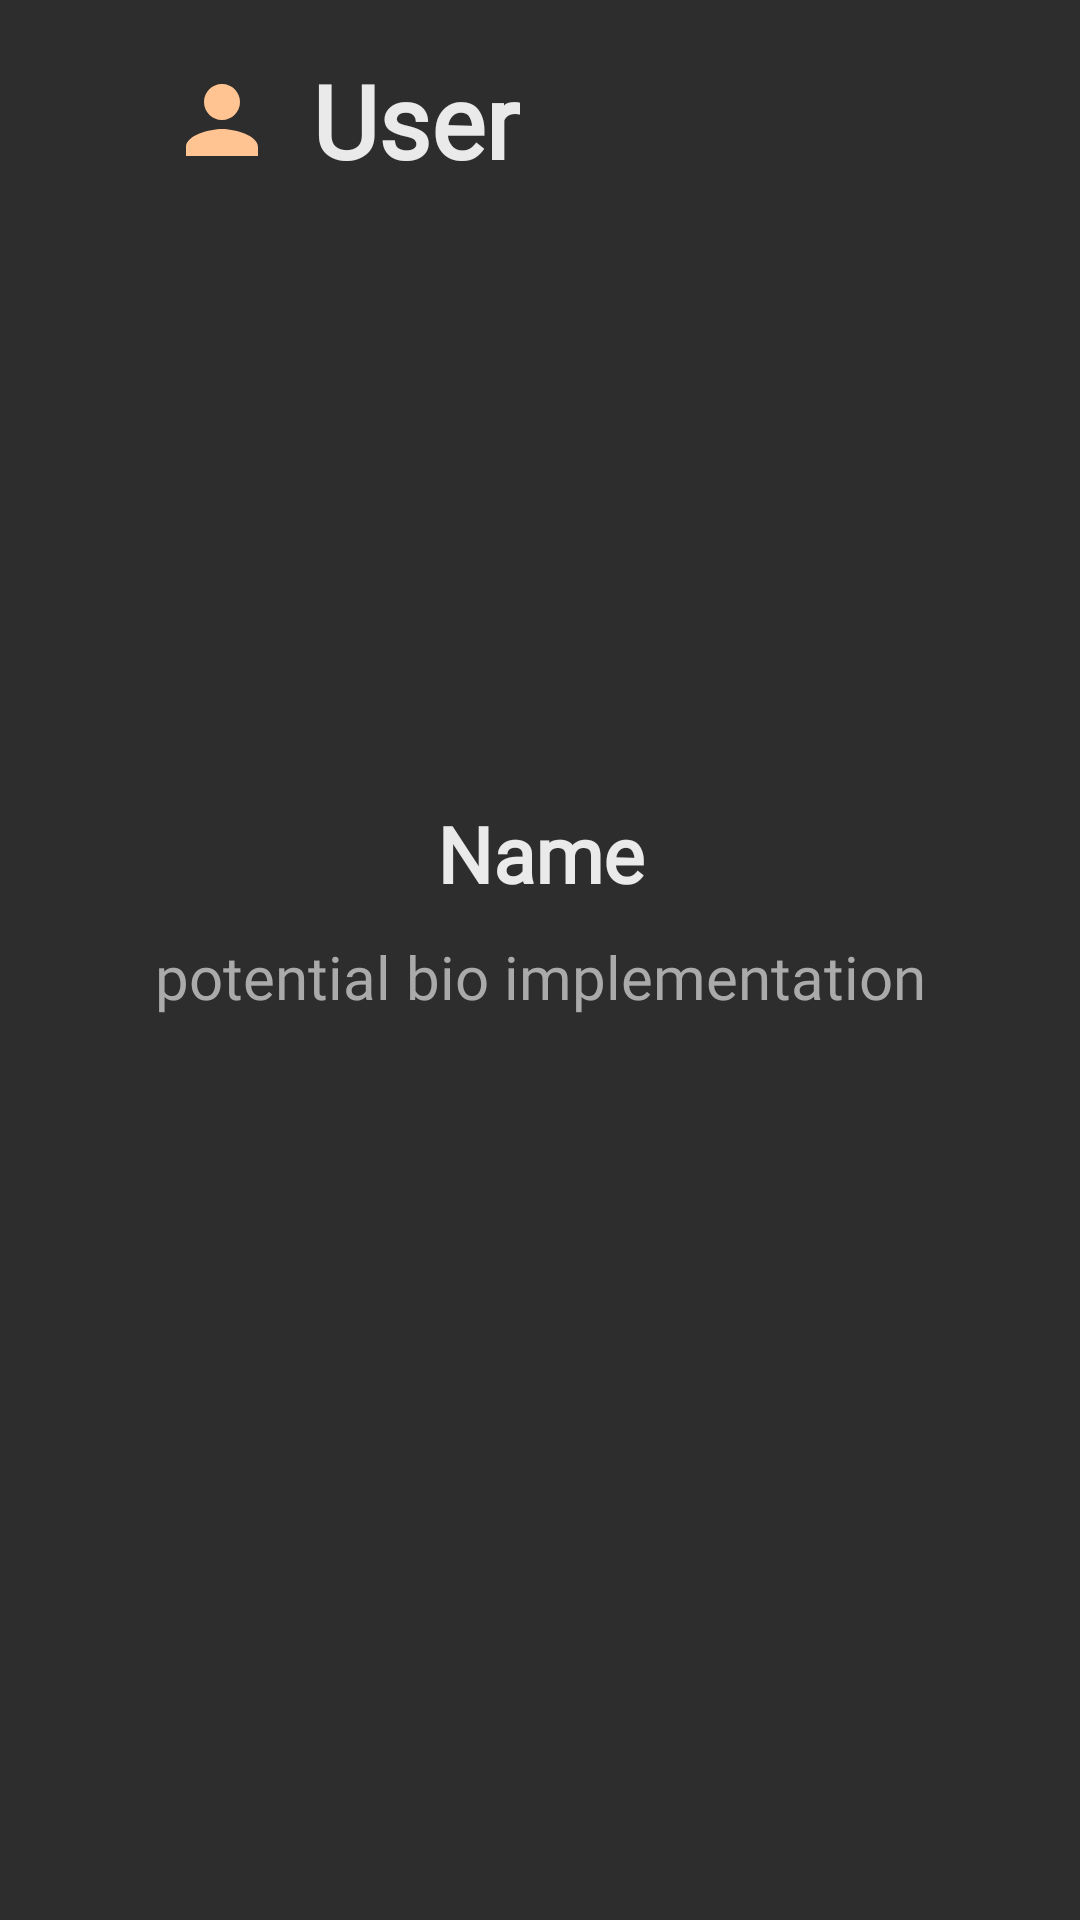

Icons on this 1080px×1920px Android screen, each with the point to tap as (x,y):
profile: (222,120)
